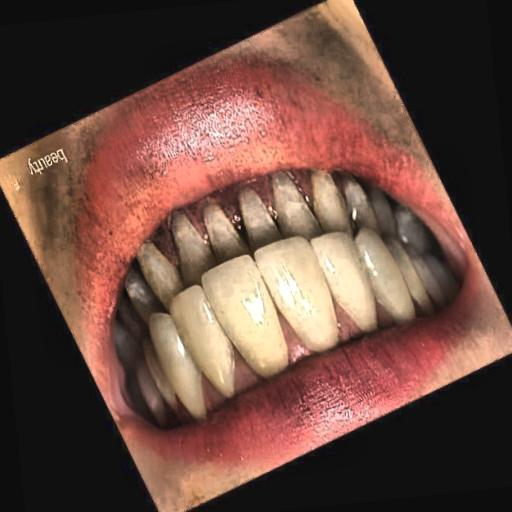Healthy: (90, 128, 484, 435)
